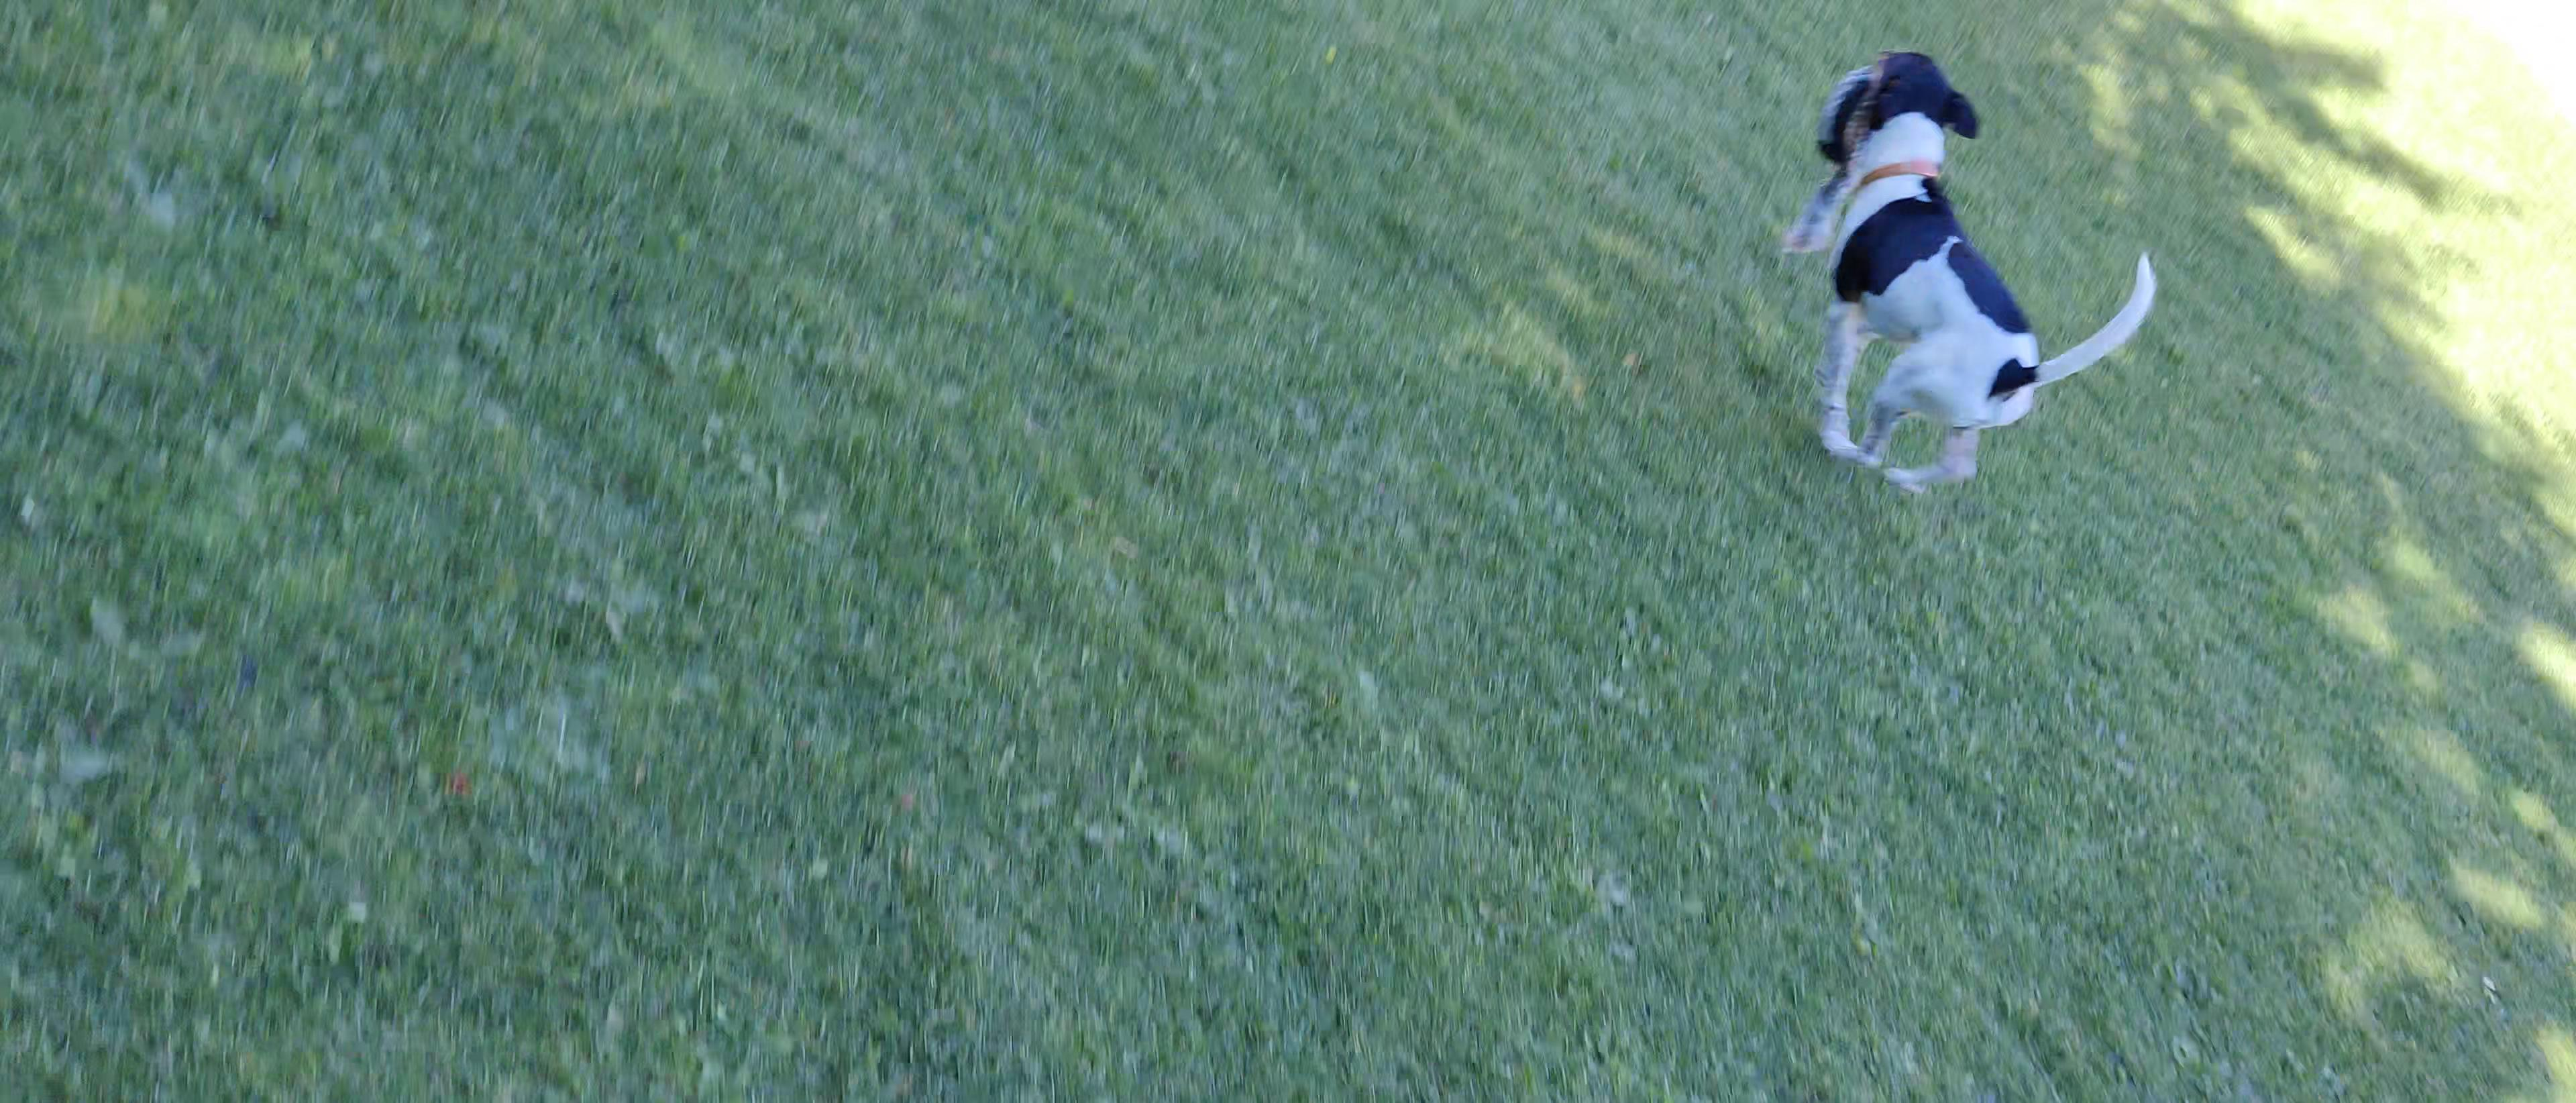Dog: (1763, 26, 2173, 493)
